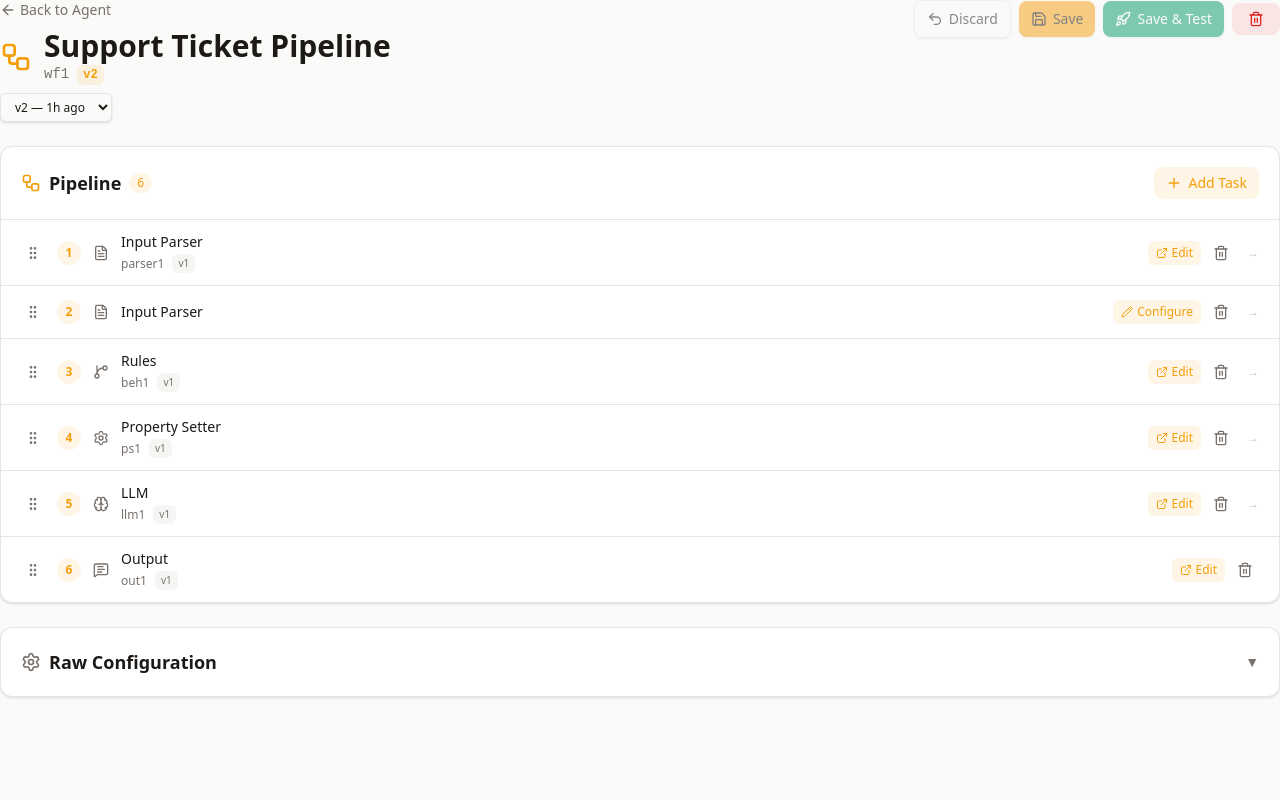
Test case: Workflow Detail — Parser Inline Editing › closes parser dialog on cancel
Click the button with test id "configure-inline-1" at x=1157, y=312, box 1113,300 -> 1201,324
(page scrolled)
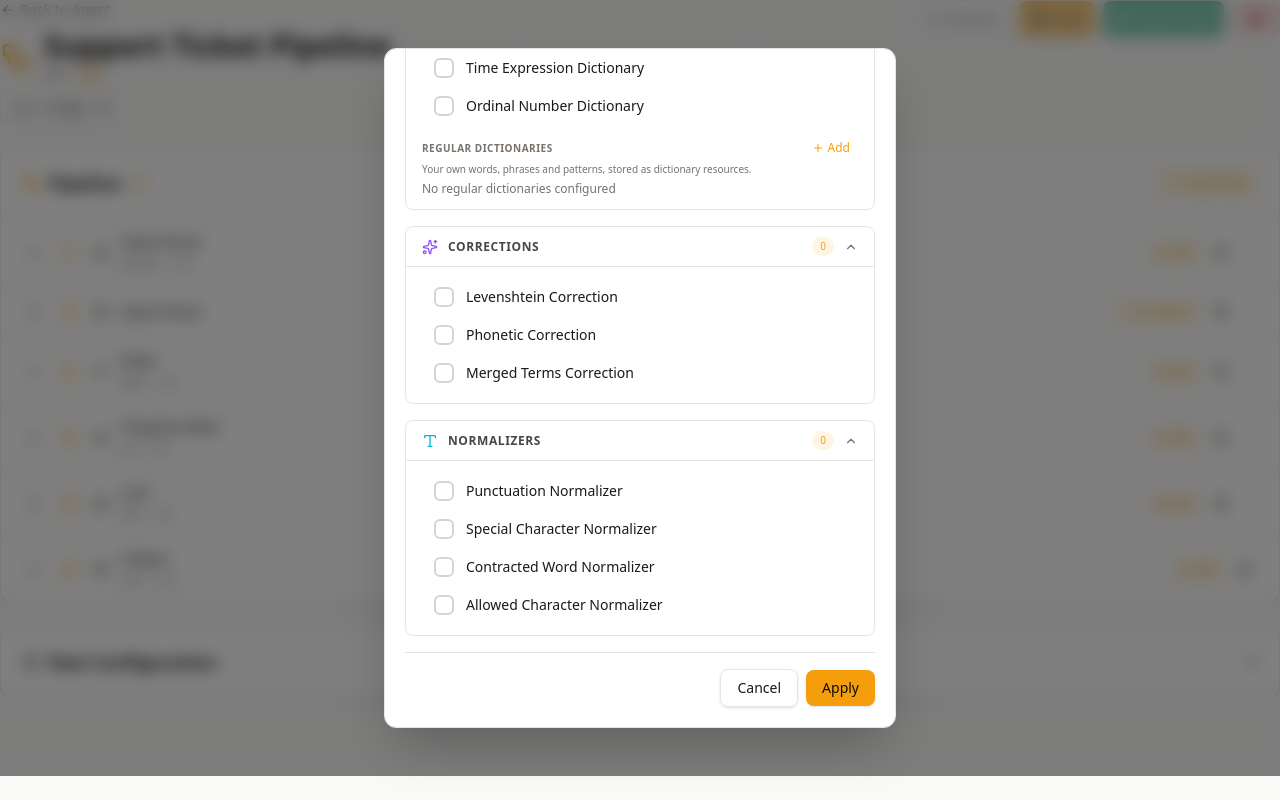
Expected: the element with test id "parser-edit-dialog" is shown
Click the button with test id "parser-dialog-cancel" at x=759, y=688, box 720,669 -> 798,707
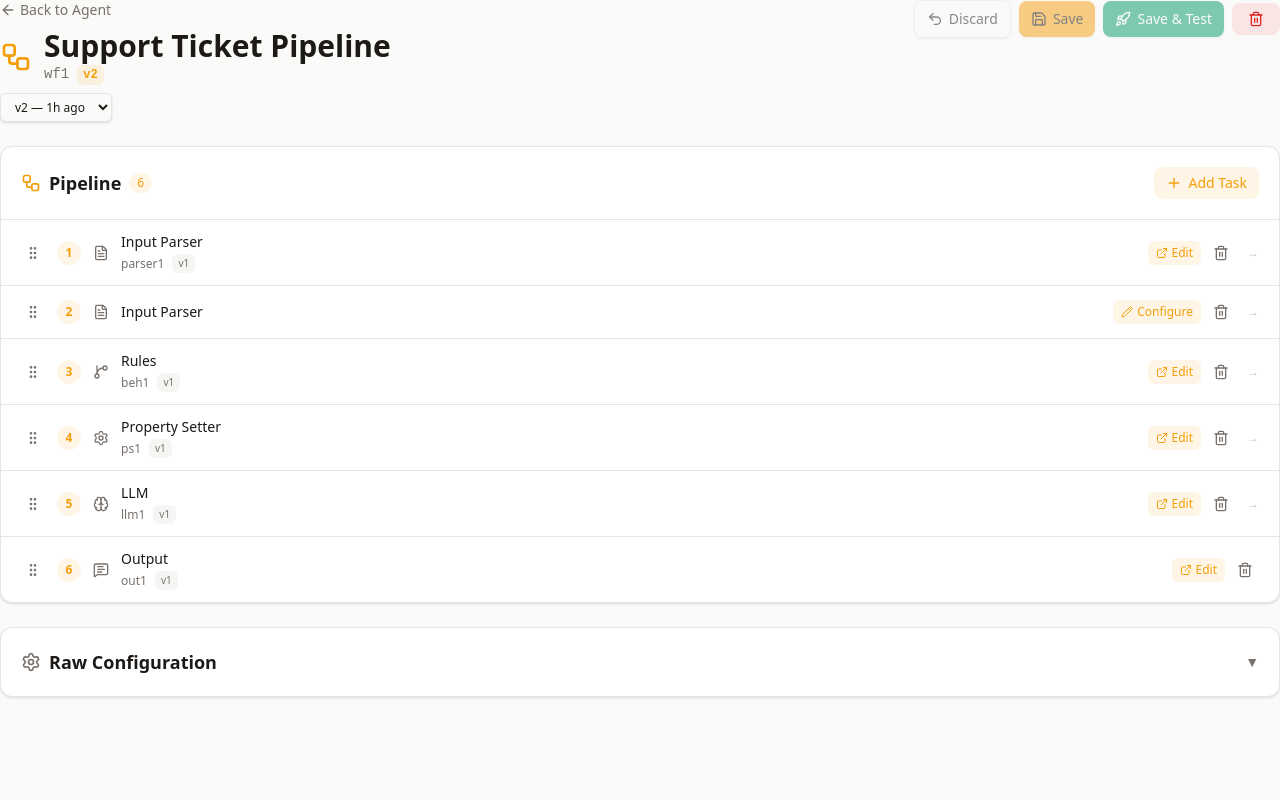
Expected: the element with test id "parser-edit-dialog" is gone
